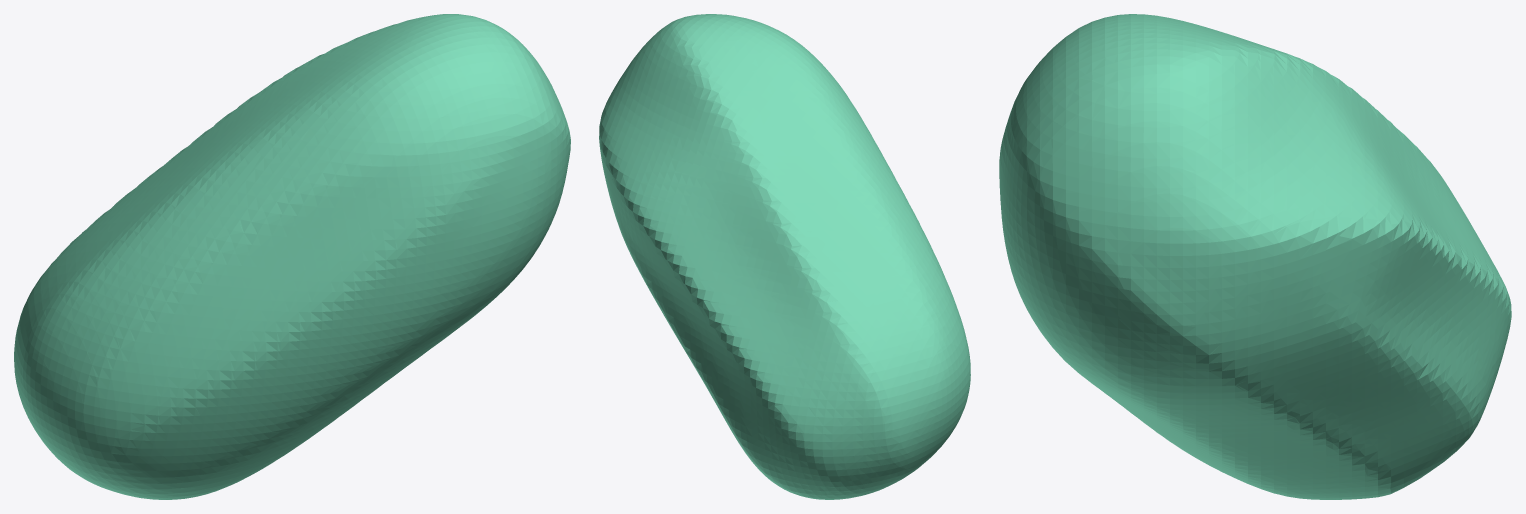
File: hand_part_7.glb
3 renders of one model, left to right at view 1: azimuth 30°, elevation 25°; view 2: azimuth 150°, elevation 25°; view 3: azimuth 270°, elevation 25°, orthographic. The views are drawn at different scales.
Bounding box in the file's own units: 0.0301 × 0.0285 × 0.0229.
